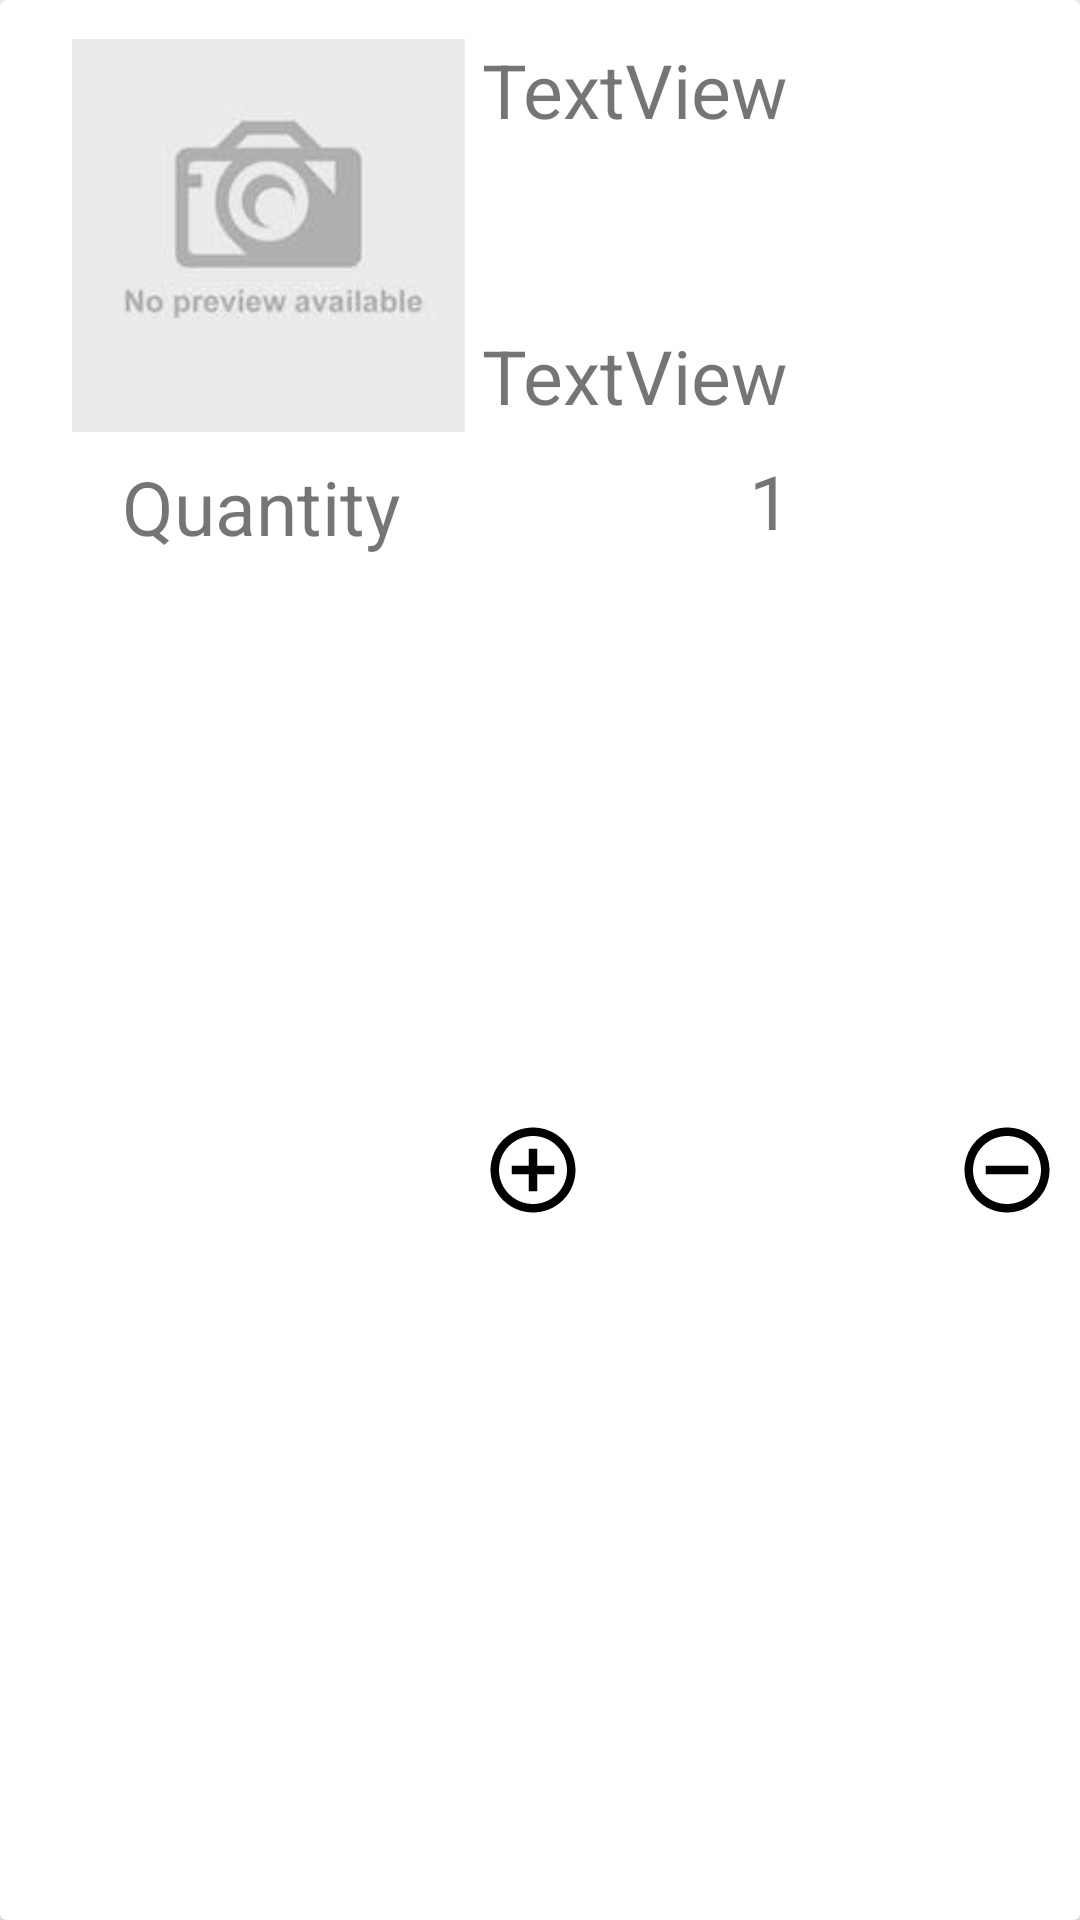

Named icons in this screenshot (1080px x 1920px) and their bounding boxes, {"x1": x1, "y1": y1, "x2": x2, "y2": y2}:
add circle: {"x1": 490, "y1": 1127, "x2": 576, "y2": 1213}
remove circle: {"x1": 964, "y1": 1127, "x2": 1050, "y2": 1213}
